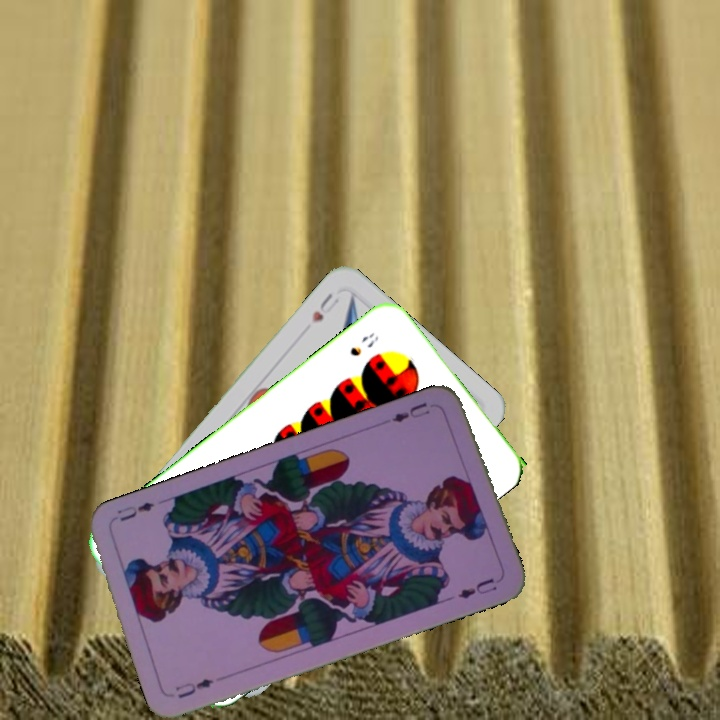EU: (171, 674, 217, 702), (388, 398, 432, 425)
HU: (307, 288, 342, 325)
S8: (346, 328, 382, 359)
